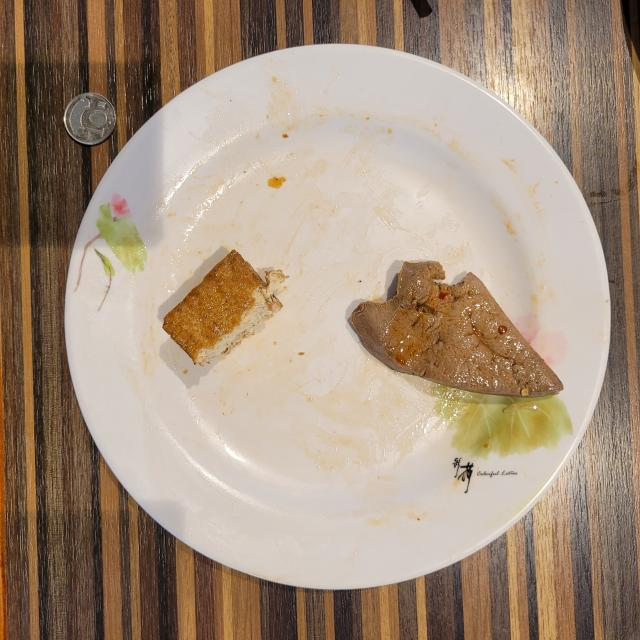coin: (64, 92, 116, 145)
egg tofu: (162, 250, 285, 365)
pig liver: (350, 261, 564, 398)
